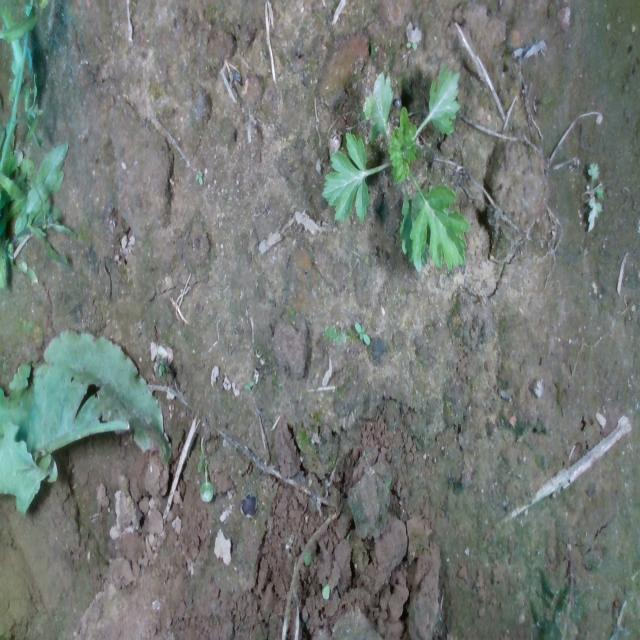weed: (352, 320, 370, 347), (194, 168, 202, 186), (405, 39, 417, 49)
